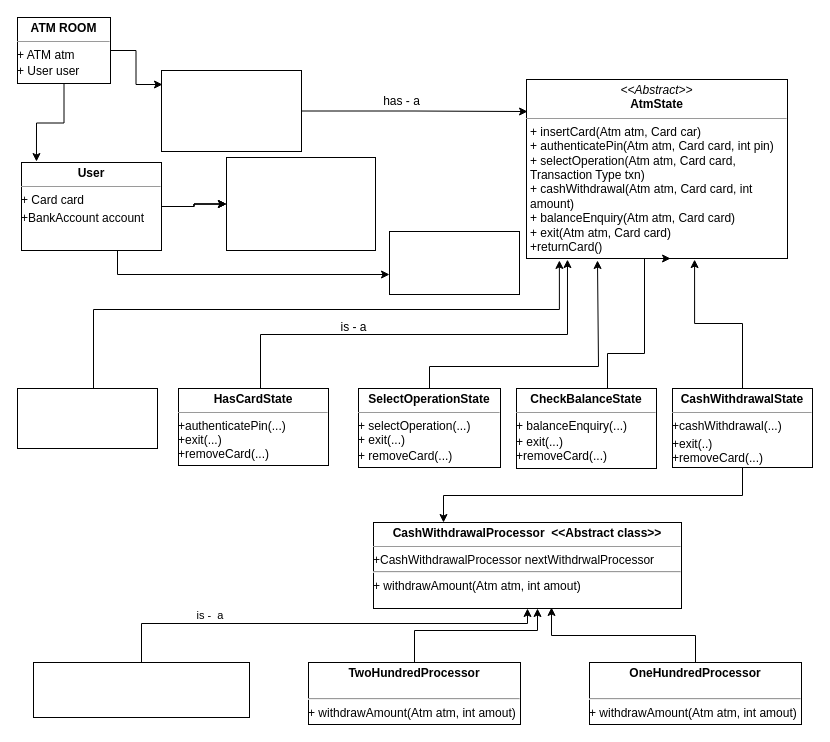
Some shapes in this 830 by 742 pixel diagram are drawn without their labels. The shapes that lost their labels are listed below. From the top down, each one's centre as x and y in pixels, then its label:
the point at 231,111: ATM + AtmState atmState + int atmBalance
the point at 301,203: BankAccount + long accountNo + int accountBalance + updateBalance()
the point at 454,262: Card + CardDetails details + BankAccount account
the point at 87,418: IdleState + insertCard(Atm, Card)
the point at 141,690: FiveHundredProcessor + + withdrawAmount(Atm atm, int amout)
